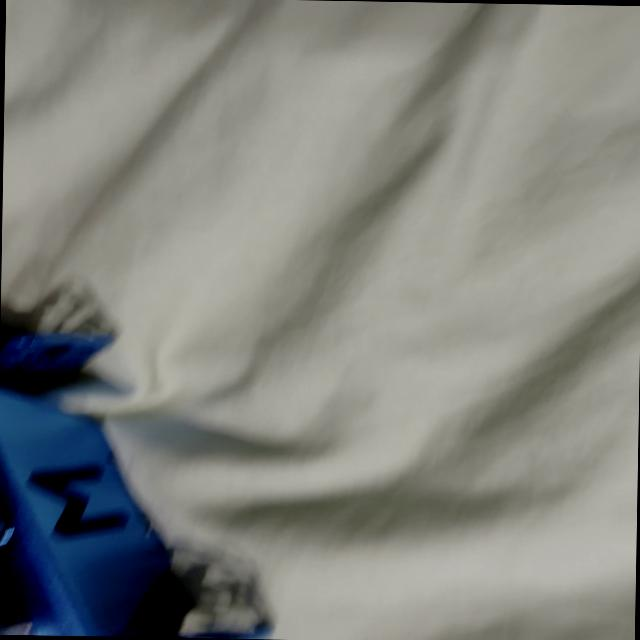mbot-detection: (0, 308, 313, 639)
